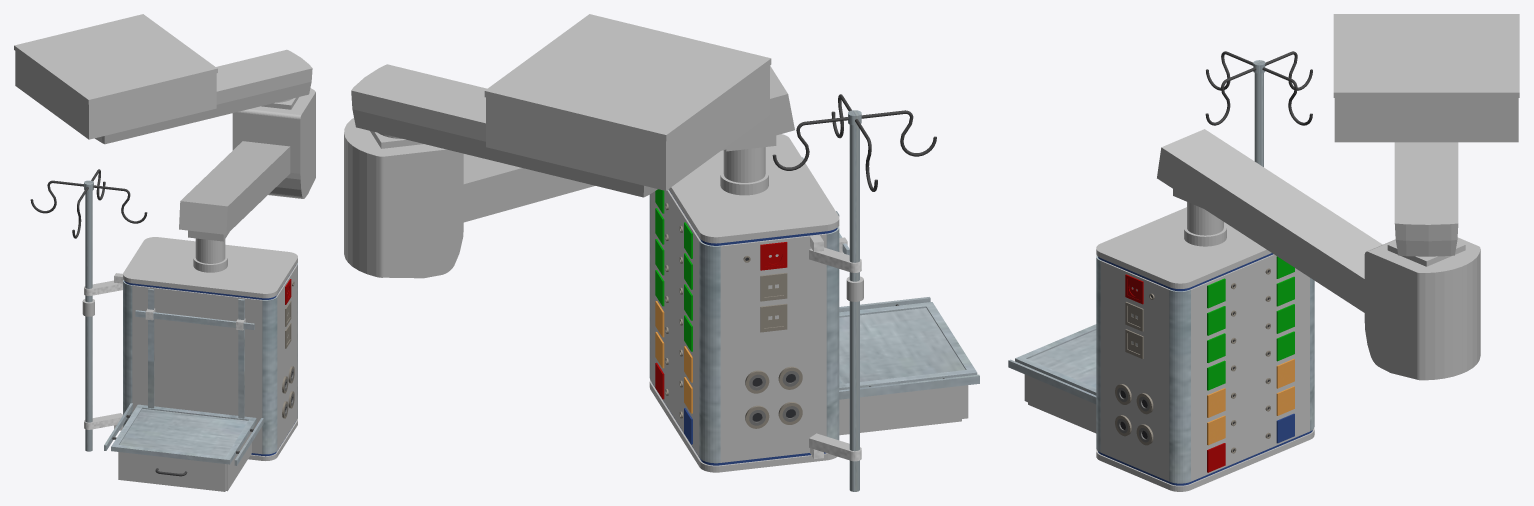
Rendered from OP-Stativ.fbx.
3 renders of one model, left to right at view 1: azimuth 30°, elevation 25°; view 2: azimuth 150°, elevation 25°; view 3: azimuth 270°, elevation 25°, orthographic. The views are drawn at different scales.
Visible parts, largest first — view 1: Decke-001 (×9), Wand-056 (×3), Block_drehbar 17 - Objekt-0016, Schale-006, Wand-022, Decke-002, Hängeschrank 1-teilig 21 - Objekt-0016, Wand-059, Kegel stehend 21 - Objekt-0015, Wandnr.-0155 (×2), Wand-024, Wand-039; view 2: Decke-001 (×9), Wand-057, Schale-006, Wand-024, Wand-056 (×2), Wand-058, Decke-002, Block_drehbar 17 - Objekt-0016, Wand-055, Hängeschrank 1-teilig 21 - Objekt-0016, Kegel stehend 21 - Objekt-0015, Wand-022 (+1 smaller); view 3: Decke-001 (×8), Wand-058, Block_drehbar 17 - Objekt-0016, Wand-059, Wand-055, Schale-006, Wand-056 (×3), Wand-024, Wand-022, Hängeschrank 1-teilig 21 - Objekt-0016, Decke-002, Kegel stehend 21 - Objekt-0015 (+1 smaller).
Boxes of the visible parts, x1,y1,x2,y2 form: Decke-001 (×9): (14,14,297,464); Wand-056 (×3): (123,280,277,454); Block_drehbar 17 - Objekt-0016: (179,141,290,234); Schale-006: (232,92,315,198); Wand-022: (125,58,312,139); Decke-002: (119,409,248,456); Hängeschrank 1-teilig 21 - Objekt-0016: (118,431,251,491); Wand-059: (276,265,297,450); Kegel stehend 21 - Objekt-0015: (85,191,92,451); Wandnr.-0155 (×2): (148,288,244,418); Wand-024: (216,49,301,78); Wand-039: (135,310,254,329); Decke-001 (×9): (484,14,977,472); Wand-057: (720,233,826,462); Schale-006: (367,130,463,278); Wand-024: (351,76,615,190); Wand-056 (×2): (699,226,839,463); Wand-058: (650,189,700,456); Decke-002: (839,308,965,383); Block_drehbar 17 - Objekt-0016: (463,66,794,222); Wand-055: (344,118,383,277); Hängeschrank 1-teilig 21 - Objekt-0016: (839,385,968,435); Kegel stehend 21 - Objekt-0015: (849,124,859,491); Wand-022: (366,64,486,105); Decke-001 (×8): (1015,14,1519,491); Wand-058: (1190,254,1309,481); Block_drehbar 17 - Objekt-0016: (1157,129,1382,312); Wand-059: (1100,260,1169,481); Wand-055: (1416,246,1480,380); Schale-006: (1364,237,1477,379); Wand-056 (×3): (1096,255,1314,483); Wand-024: (1426,142,1458,256); Wand-022: (1394,142,1426,256); Hängeschrank 1-teilig 21 - Objekt-0016: (1024,374,1096,433); Decke-002: (1028,330,1096,387); Kegel stehend 21 - Objekt-0015: (1254,73,1263,166).
Bounding box in the file's own units: 154 × 167 × 144.
13 materials, 3 textured.
